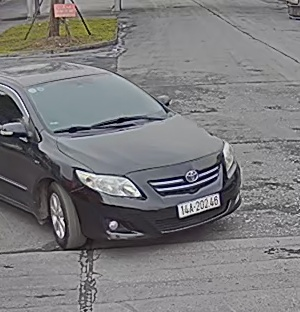vehicle plate: (174, 191, 228, 220)
